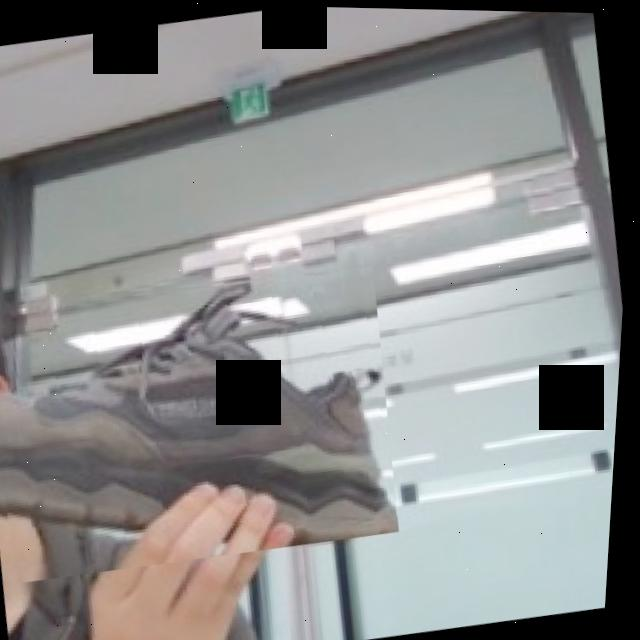shoe: (0, 248, 418, 592)
